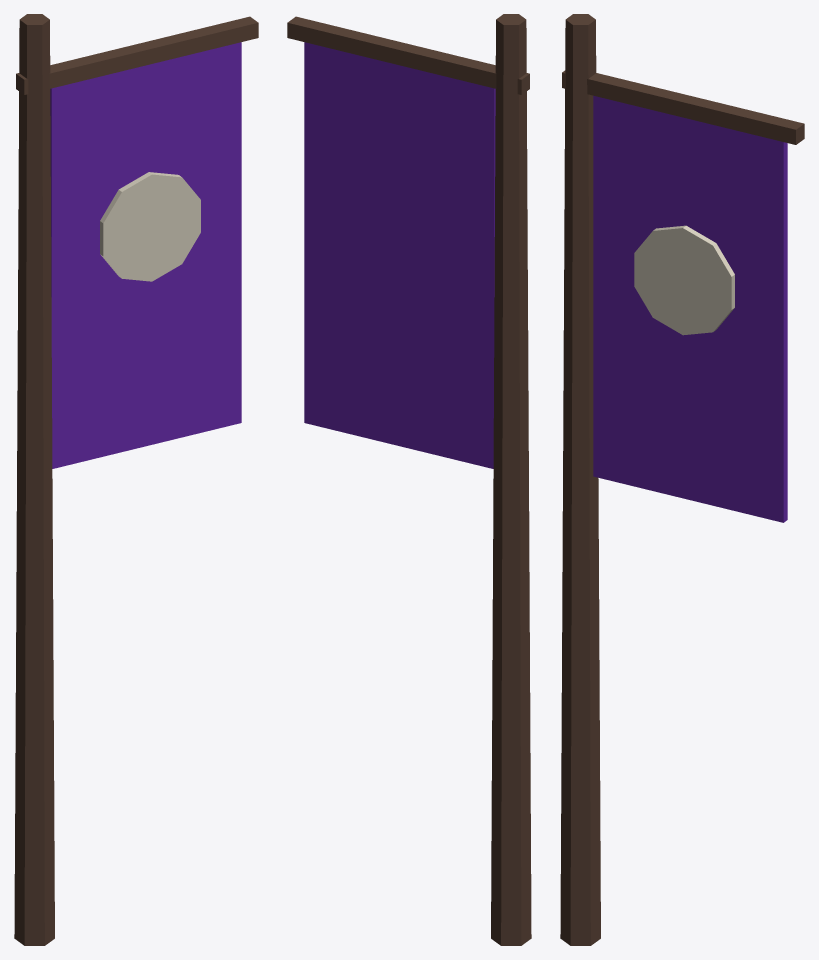
Rendered from banner.glb.
3 renders of one model, left to right at view 1: azimuth 30°, elevation 25°; view 2: azimuth 150°, elevation 25°; view 3: azimuth 330°, elevation 25°, orthographic.
Visible parts, largest first — view 1: Banner; view 2: Banner; view 3: Banner.
Part boxes in pixels (x1,y1,x2,y2): Banner: (14, 14, 258, 945); Banner: (287, 14, 531, 945); Banner: (560, 14, 804, 945).
Bounding box in the file's own units: 1.6 × 6 × 0.24.
